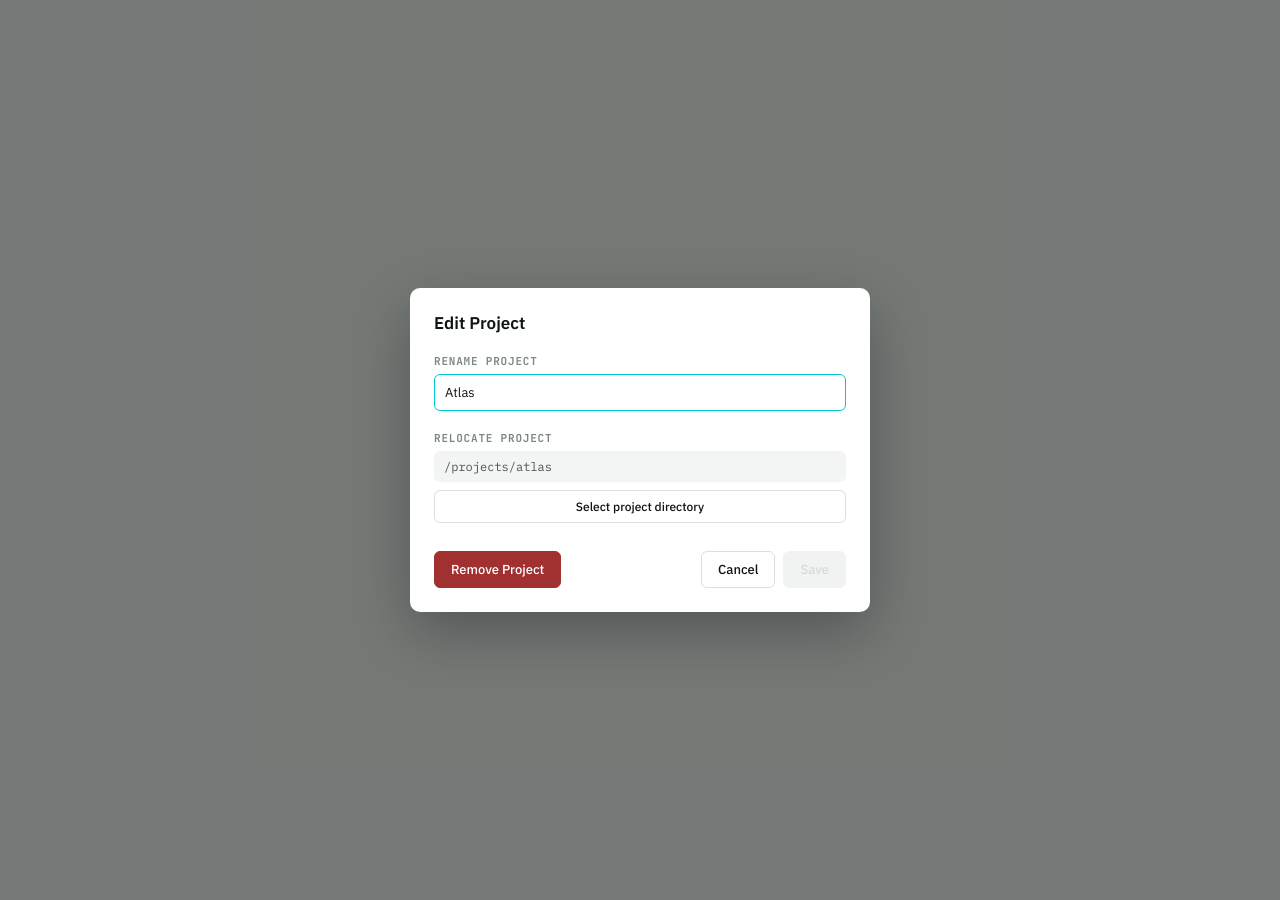
keeps Save disabled until the project name or path changes
Expected: the button "Save" is disabled, x1=783 y1=551 x2=846 y2=588
Step 1. Replace the text in the field named "Project name" with "Atlas Redesign" → point(640, 392), box x1=434 y1=374 x2=846 y2=411
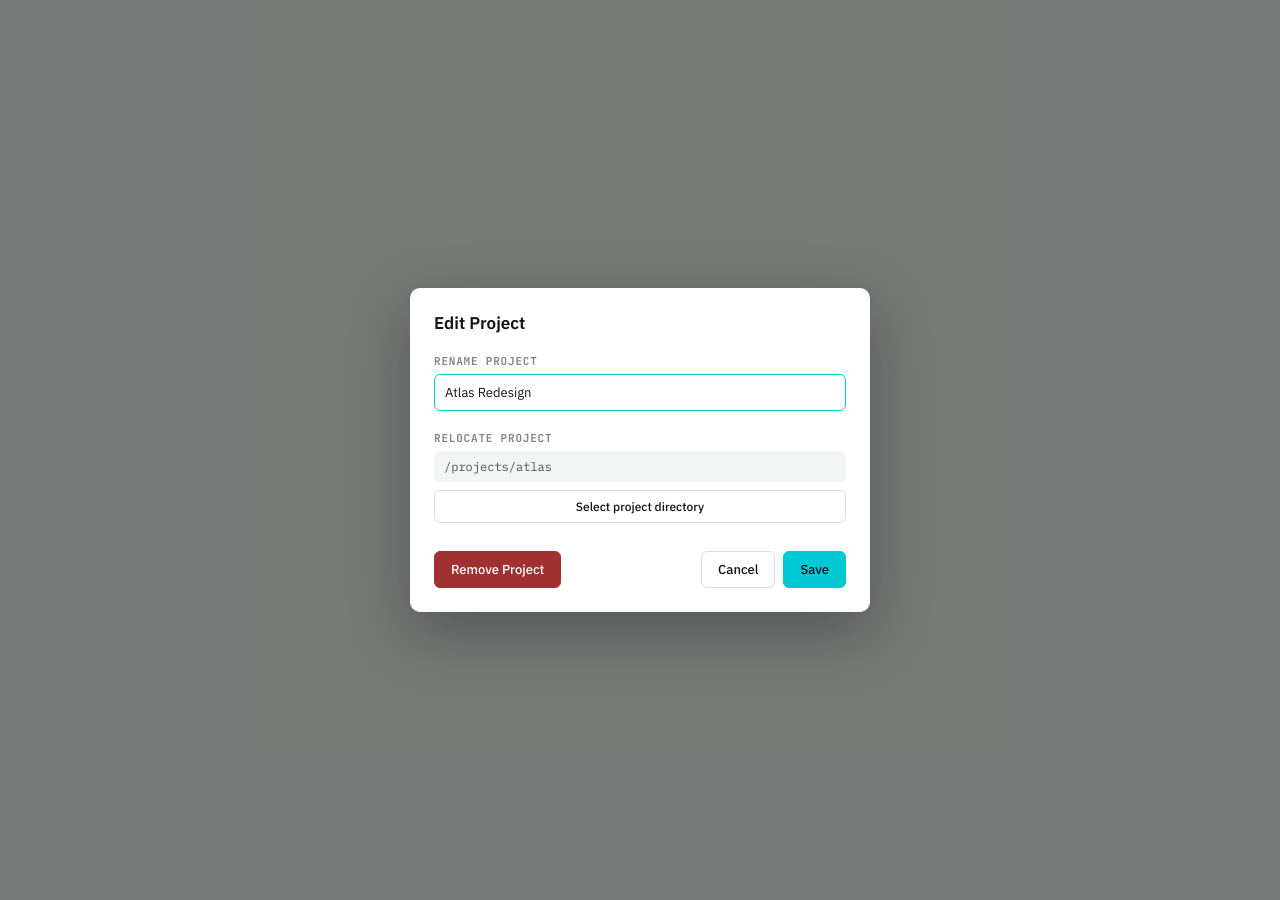
Expected: the button "Save" is enabled, x1=783 y1=551 x2=846 y2=588
